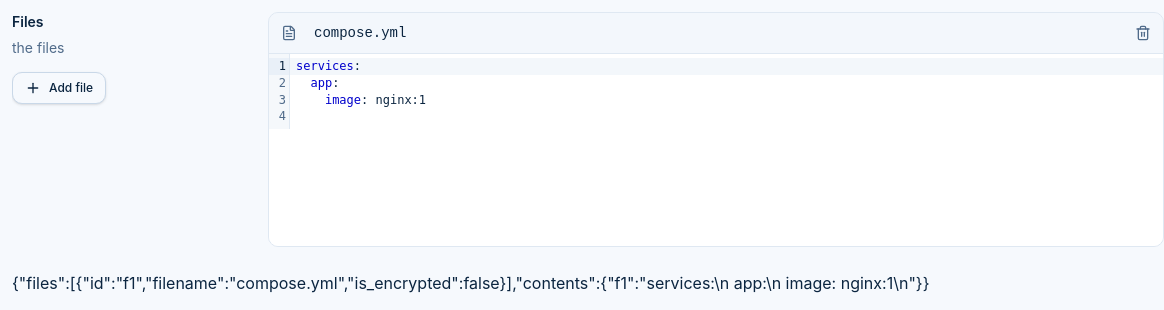
Scenario: FilesSection › can leave out the secret toggle and the image browser
Click the button named "Remove compose.yml": (1143, 33) [1127, 17, 1159, 49]
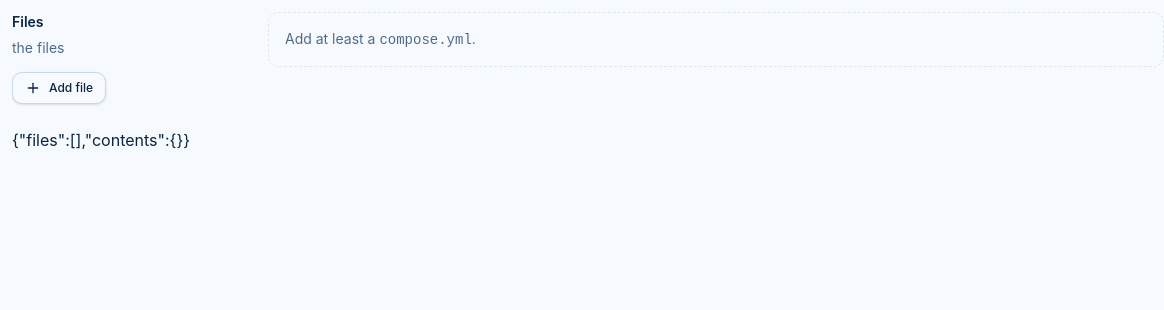
expect the text "Add at least a compose.yml." is shown: met, box [268, 12, 1163, 67]
